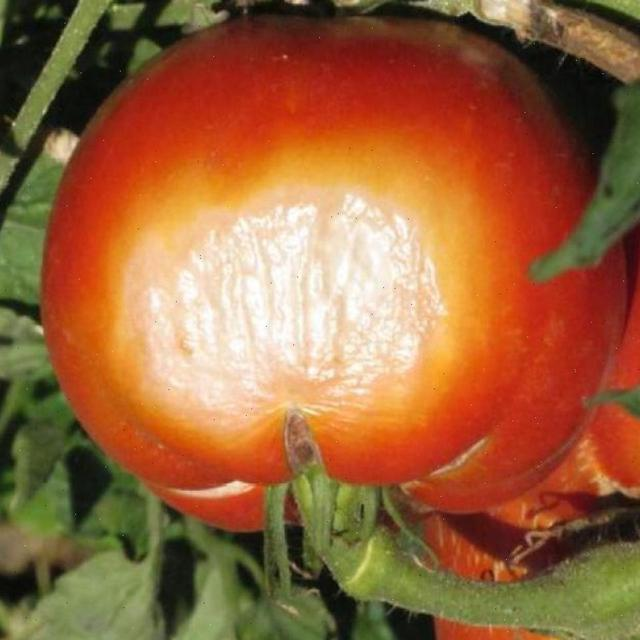Sunscald Fruit: (92, 101, 318, 292)
